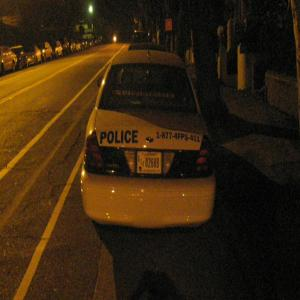Vehicle-registration-plate: (139, 149, 162, 174)
